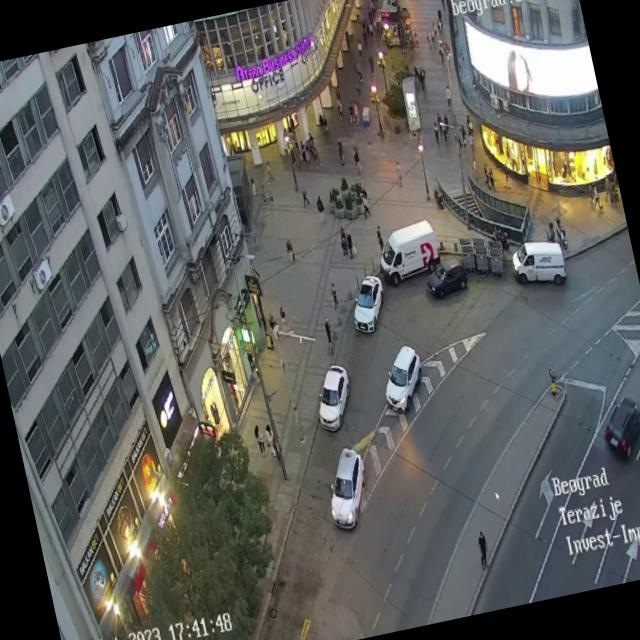car: (318, 443, 376, 532), (375, 342, 431, 416), (374, 220, 442, 278), (308, 361, 359, 434), (509, 236, 569, 295), (344, 272, 392, 336), (597, 393, 640, 462), (422, 256, 470, 300)
